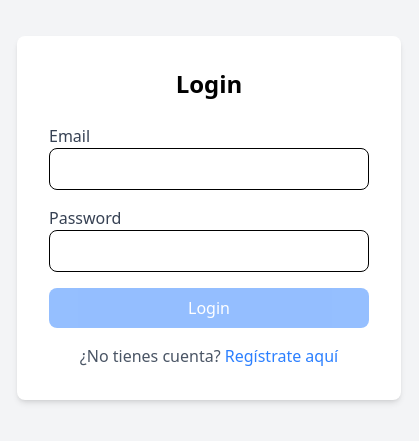
Test: LoginComponent E2E Tests › debería validar campos vacíos
Focus the field named "email". click: (209, 169)
box: [49,148,369,190]
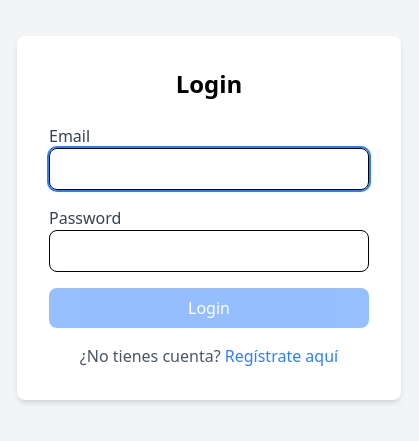
Leave the field named "email", box [49,148,369,190]
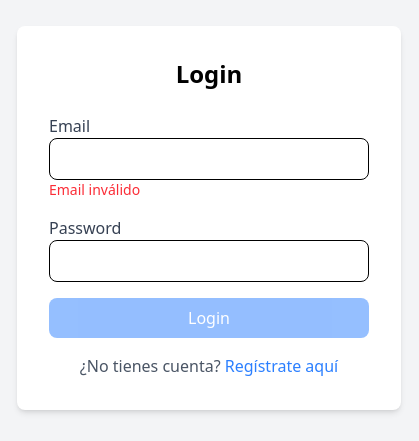
Focus the password field named "password". click: (209, 261)
box: [49,240,369,282]
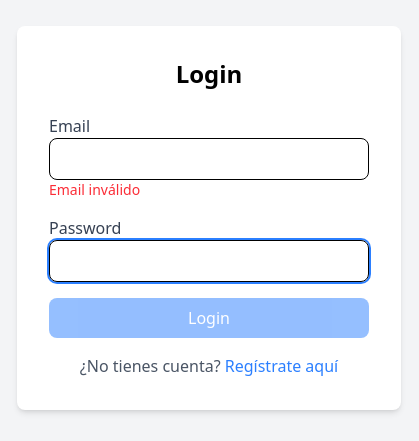
Leave the password field named "password", box [49,240,369,282]
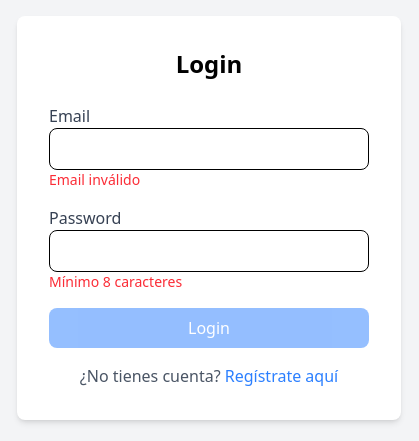
expect the text "Email inválido" is shown: met, box [49,170,140,189]
expect the text "Mínimo 8 caracteres" is shown: met, box [49,272,182,291]
